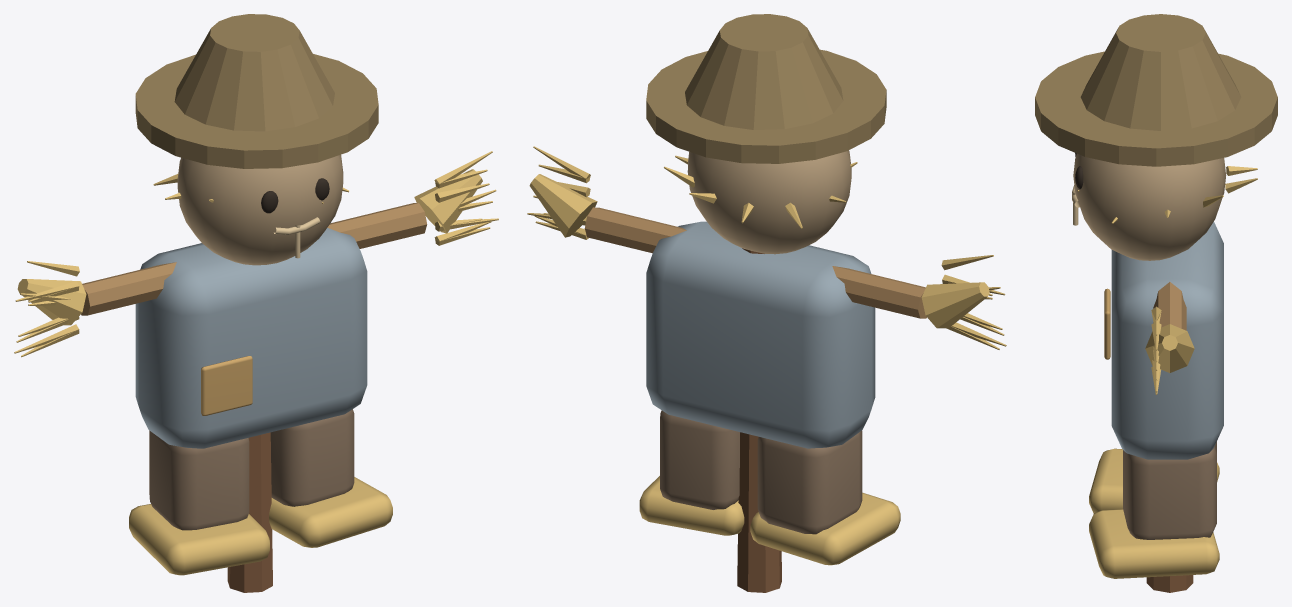
Rendered from espantalho.glb.
3 renders of one model, left to right at view 1: azimuth 30°, elevation 25°; view 2: azimuth 150°, elevation 25°; view 3: azimuth 270°, elevation 25°, orthographic.
Parts seen in each view (by area): view 1: Corpo da camisa, Copa do chapéu, Aba do chapéu, Cabeça de estopa, Perna esquerda, Perna direita, Pé esquerdo de palha, Travessa dos braços, Pé direito de palha, Estaca central, Remendo da camisa, Braço esquerdo de palha (+1 smaller); view 2: Corpo da camisa, Copa do chapéu, Aba do chapéu, Cabeça de estopa, Perna esquerda, Perna direita, Travessa dos braços, Pé esquerdo de palha, Estaca central, Pé direito de palha, Braço esquerdo de palha, Braço direito de palha; view 3: Corpo da camisa, Copa do chapéu, Aba do chapéu, Cabeça de estopa, Perna direita, Pé direito de palha, Pé esquerdo de palha, Braço direito de palha, Travessa dos braços, Estaca central, Remendo da camisa.
Boxes of the visible parts, bbox=[...] form: Corpo da camisa: bbox=[135, 222, 367, 448]; Copa do chapéu: bbox=[174, 14, 334, 131]; Aba do chapéu: bbox=[135, 54, 378, 168]; Cabeça de estopa: bbox=[177, 154, 343, 265]; Perna esquerda: bbox=[149, 430, 249, 530]; Perna direita: bbox=[270, 409, 354, 506]; Pé esquerdo de palha: bbox=[129, 504, 269, 575]; Travessa dos braços: bbox=[81, 203, 427, 315]; Pé direito de palha: bbox=[269, 477, 392, 547]; Estaca central: bbox=[227, 432, 272, 592]; Remendo da camisa: bbox=[201, 356, 252, 415]; Braço esquerdo de palha: bbox=[17, 279, 86, 325]; Corpo da camisa: bbox=[646, 221, 875, 448]; Copa do chapéu: bbox=[685, 14, 843, 129]; Aba do chapéu: bbox=[646, 49, 886, 163]; Cabeça de estopa: bbox=[687, 150, 851, 254]; Perna esquerda: bbox=[757, 430, 862, 534]; Perna direita: bbox=[660, 410, 739, 509]; Travessa dos braços: bbox=[584, 207, 926, 318]; Pé esquerdo de palha: bbox=[750, 492, 900, 565]; Estaca central: bbox=[737, 248, 781, 592]; Pé direito de palha: bbox=[639, 476, 744, 535]; Braço esquerdo de palha: bbox=[921, 282, 989, 328]; Braço direito de palha: bbox=[529, 174, 597, 237]; Corpo da camisa: bbox=[1111, 221, 1223, 459]; Copa do chapéu: bbox=[1080, 14, 1241, 130]; Aba do chapéu: bbox=[1035, 51, 1277, 166]; Cabeça de estopa: bbox=[1073, 153, 1226, 260]; Perna direita: bbox=[1123, 446, 1216, 539]; Pé direito de palha: bbox=[1089, 509, 1219, 578]; Pé esquerdo de palha: bbox=[1089, 448, 1219, 513]; Braço direito de palha: bbox=[1145, 324, 1194, 372]; Travessa dos braços: bbox=[1153, 282, 1186, 330]; Estaca central: bbox=[1146, 575, 1193, 592]; Remendo da camisa: bbox=[1104, 288, 1110, 359].
Bounding box in the file's own units: 1.24 × 1.35 × 0.54.
